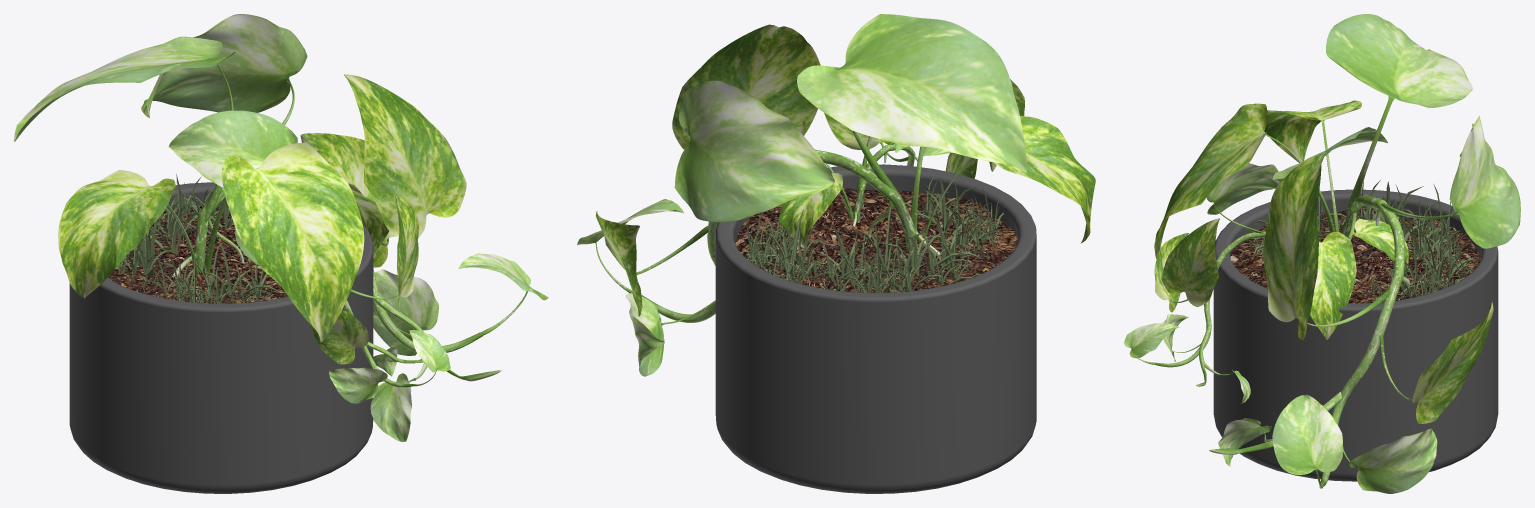
Rendered from pothos.glb.
3 views of the same model, side by side, from view 1: azimuth 30°, elevation 25°; view 2: azimuth 150°, elevation 25°; view 3: azimuth 270°, elevation 25° (orthographic). The views are drawn at different scales.
Parts seen in each view (by area): view 1: ivy_1, pot, ivy_2, grass; view 2: pot, ivy_1, grass, ivy_2; view 3: ivy_1, pot, ivy_2, grass.
Boxes of the visible parts, x1,y1,x2,y2 form: ivy_1: [14, 14, 548, 441]; pot: [69, 182, 373, 493]; ivy_2: [168, 110, 450, 403]; grass: [110, 174, 279, 303]; pot: [715, 164, 1036, 493]; ivy_1: [577, 14, 1095, 376]; grass: [741, 176, 1006, 292]; ivy_2: [779, 112, 977, 248]; ivy_1: [1154, 14, 1520, 493]; pot: [1213, 189, 1498, 481]; ivy_2: [1124, 127, 1409, 403]; grass: [1241, 180, 1478, 300].
Bounding box in the file's own units: 2.64 × 2.07 × 2.04.
Materials: 4 (3 with a texture image).
